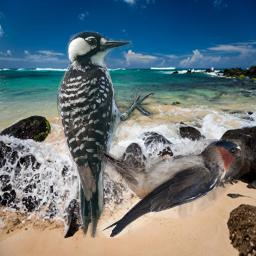Swallow: (97, 139, 250, 238)
Woodpecker: (54, 30, 158, 238)
